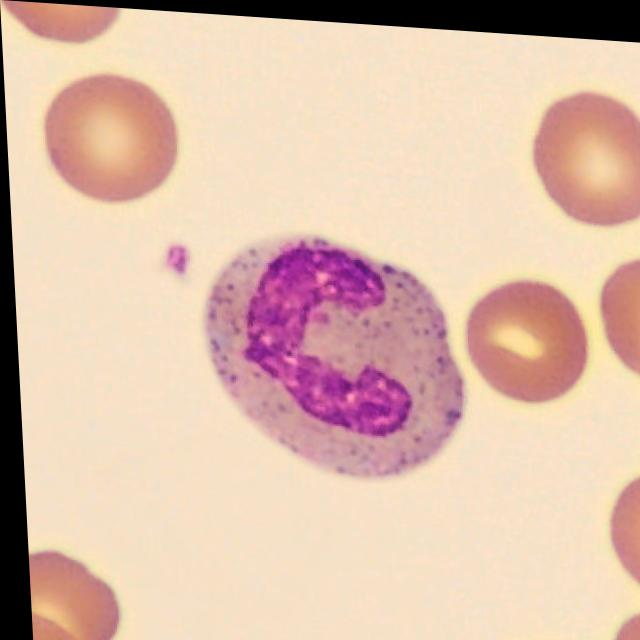Neutrofilo segmentado: (197, 233, 463, 476)
